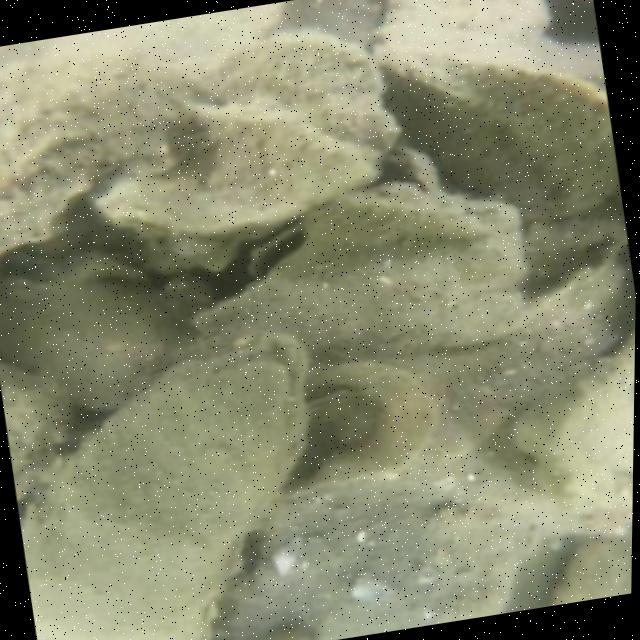Oyster-Closed: (18, 332, 316, 640), (91, 101, 439, 271)
Oyster-Indeterminate: (195, 183, 530, 358), (237, 476, 530, 640), (0, 54, 220, 253), (376, 44, 618, 217), (202, 32, 406, 166), (269, 356, 439, 505), (3, 288, 184, 419), (40, 2, 295, 67), (380, 0, 554, 63), (308, 198, 488, 251), (1, 365, 70, 491), (552, 533, 632, 594)
